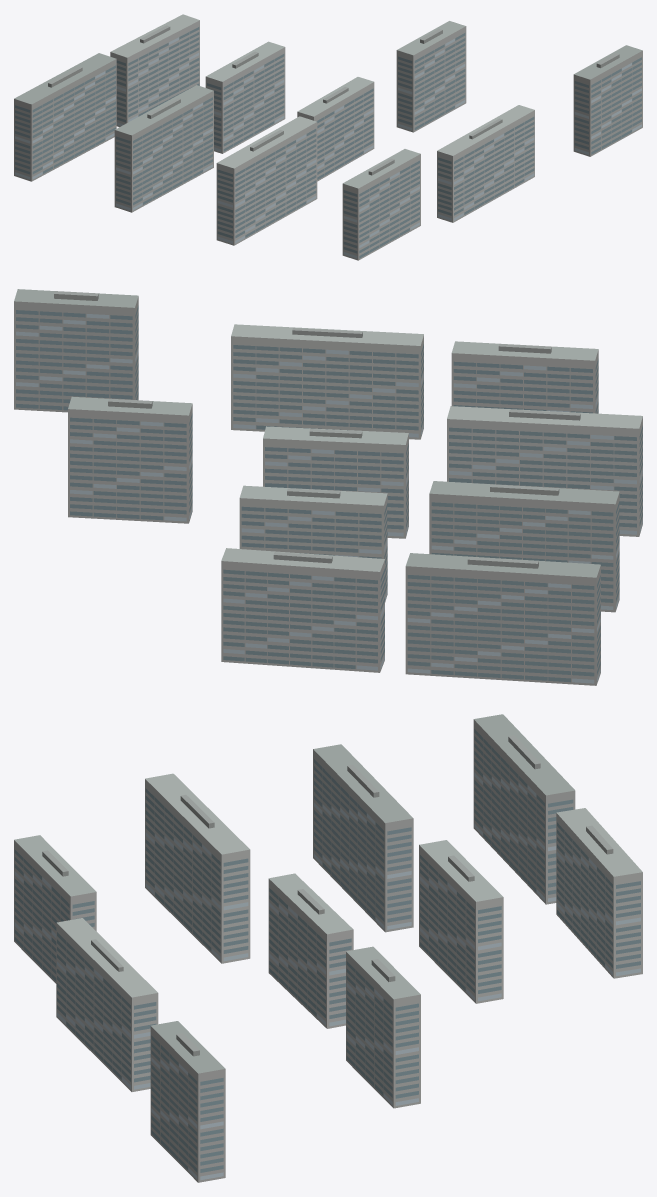
Rendered from apt-a13599303.glb.
The picture shows the model from 3 angles, top to bottom: view 1: azimuth 30°, elevation 25°; view 2: azimuth 150°, elevation 25°; view 3: azimuth 270°, elevation 25°; orthographic projection. The views are drawn at different scales.
Visible parts, largest first — view 1: apt-a13599303; view 2: apt-a13599303; view 3: apt-a13599303.
Part boxes in pixels (x1,y1,x2,y2): apt-a13599303: [14, 14, 642, 260]; apt-a13599303: [14, 289, 642, 685]; apt-a13599303: [14, 714, 642, 1182].
Size of the model in its own units: 323 by 47.81 by 239.
